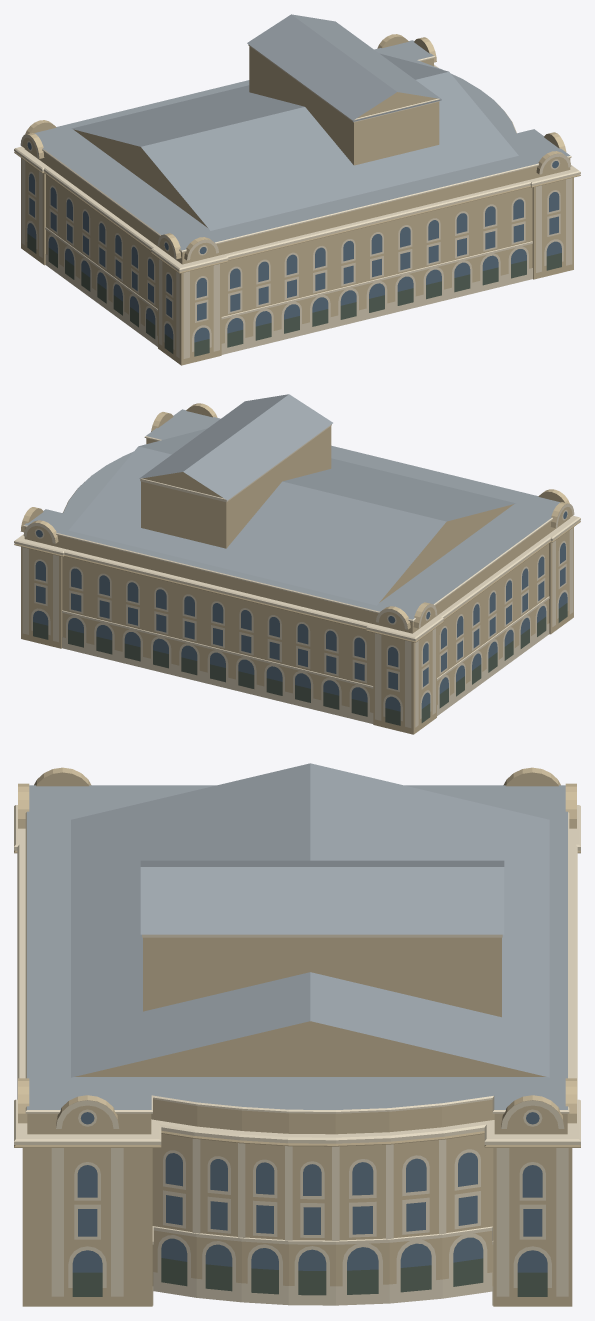
File: den-ellie-caulkins-opera-house.glb
3 renders of one model, top to bottom at view 1: azimuth 30°, elevation 25°; view 2: azimuth 150°, elevation 25°; view 3: azimuth 270°, elevation 25°, orthographic. The views are drawn at different scales.
Visible parts, largest first — view 1: Ellie Caulkins Opera House; view 2: Ellie Caulkins Opera House; view 3: Ellie Caulkins Opera House.
Boxes of the visible parts, <box> form: Ellie Caulkins Opera House: <box>14,14,580,365</box>; Ellie Caulkins Opera House: <box>14,394,580,734</box>; Ellie Caulkins Opera House: <box>14,763,580,1306</box>.
Size of the model in its own units: 82.8 by 36.9 by 59.1.
